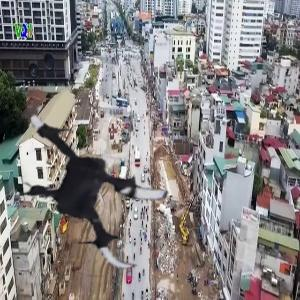drone: (4, 90, 195, 281)
